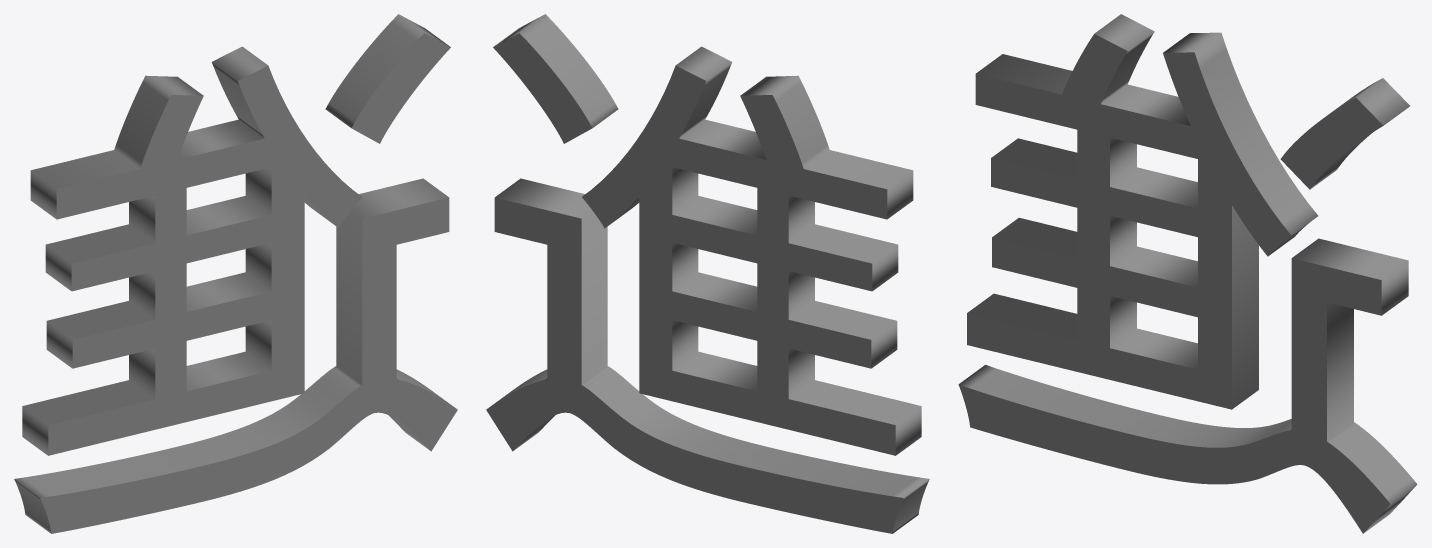
Rendered from title_1.obj.
3 views of the same model, side by side, from view 1: azimuth 30°, elevation 25°; view 2: azimuth 150°, elevation 25°; view 3: azimuth 330°, elevation 25° (orthographic). The views are drawn at different scales.
Parts seen in each view (by area): view 1: title_1; view 2: title_1; view 3: title_1.
Boxes of the visible parts, x1,y1,x2,y2 form: title_1: [14, 14, 457, 533]; title_1: [486, 14, 929, 533]; title_1: [958, 14, 1417, 533].
Size of the model in its own units: 0.926 by 0.902 by 0.1.
